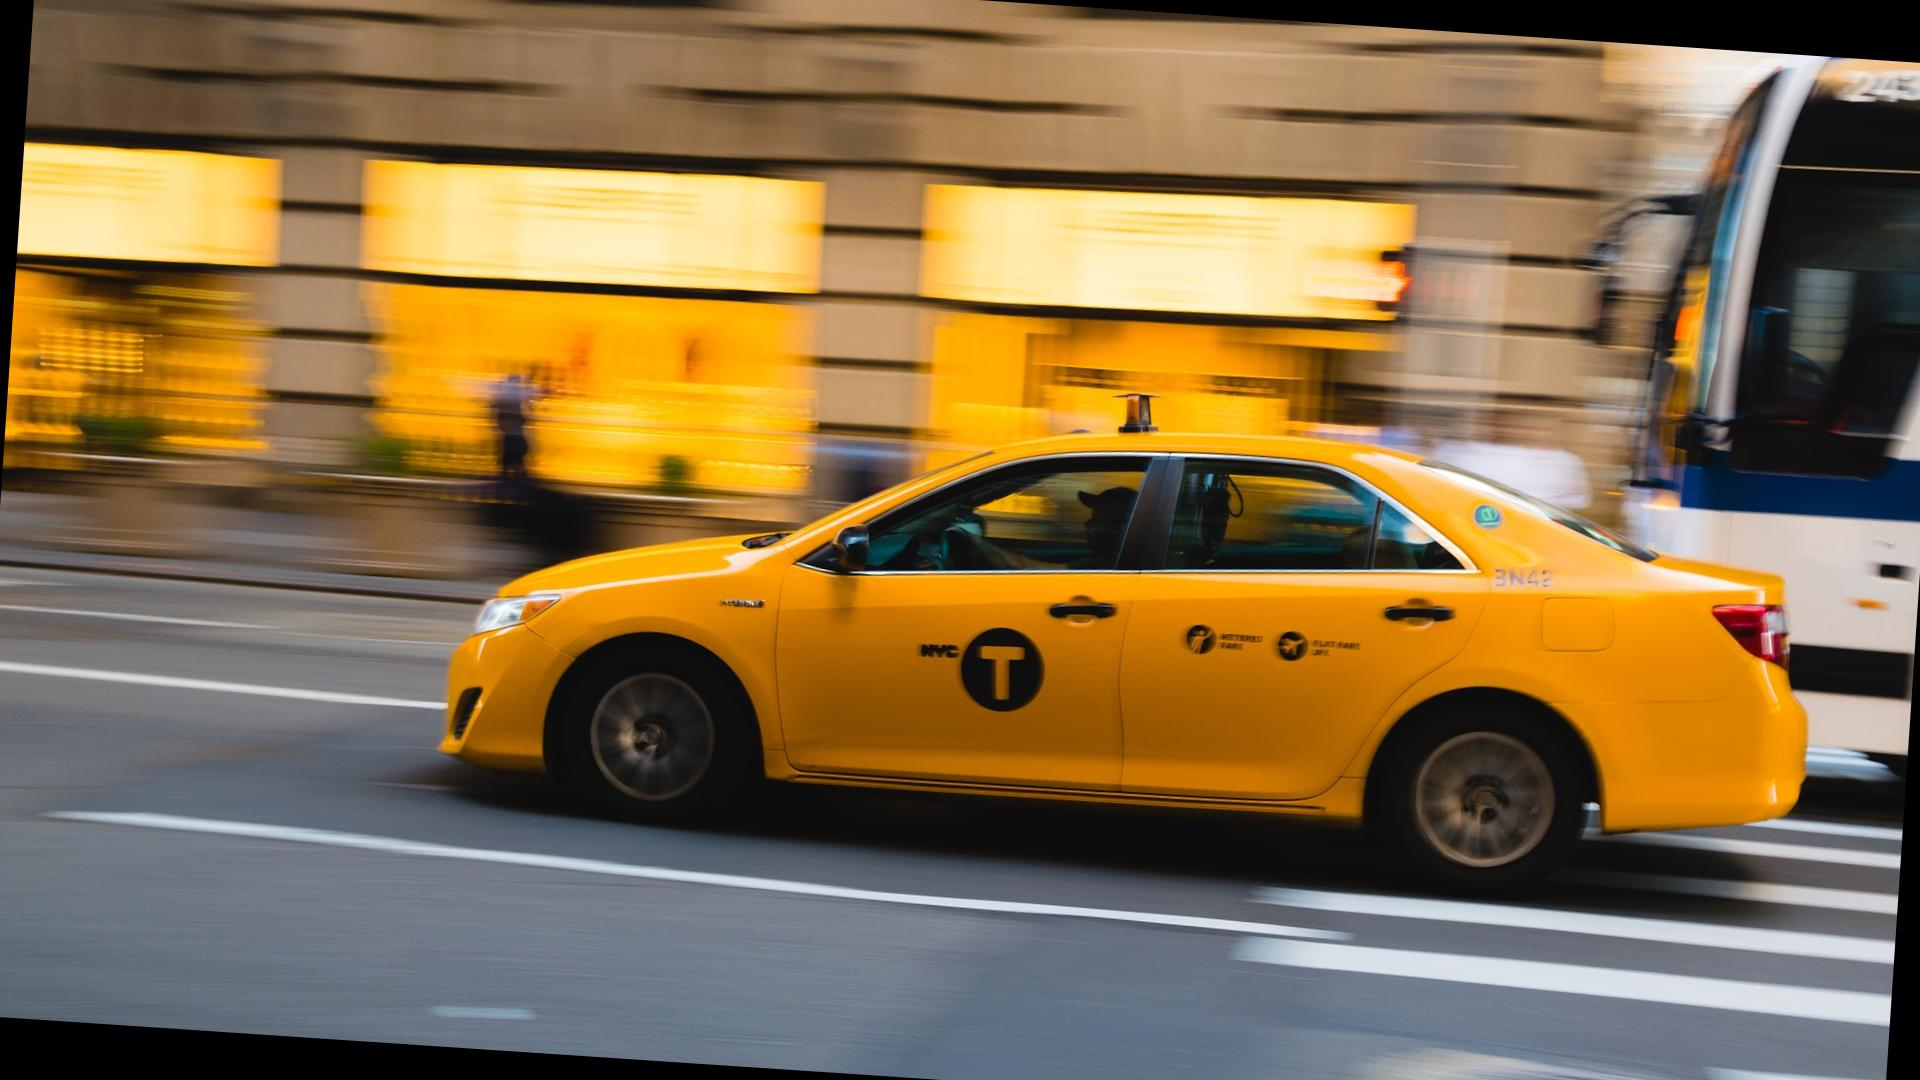taxi: (455, 438, 1797, 909)
